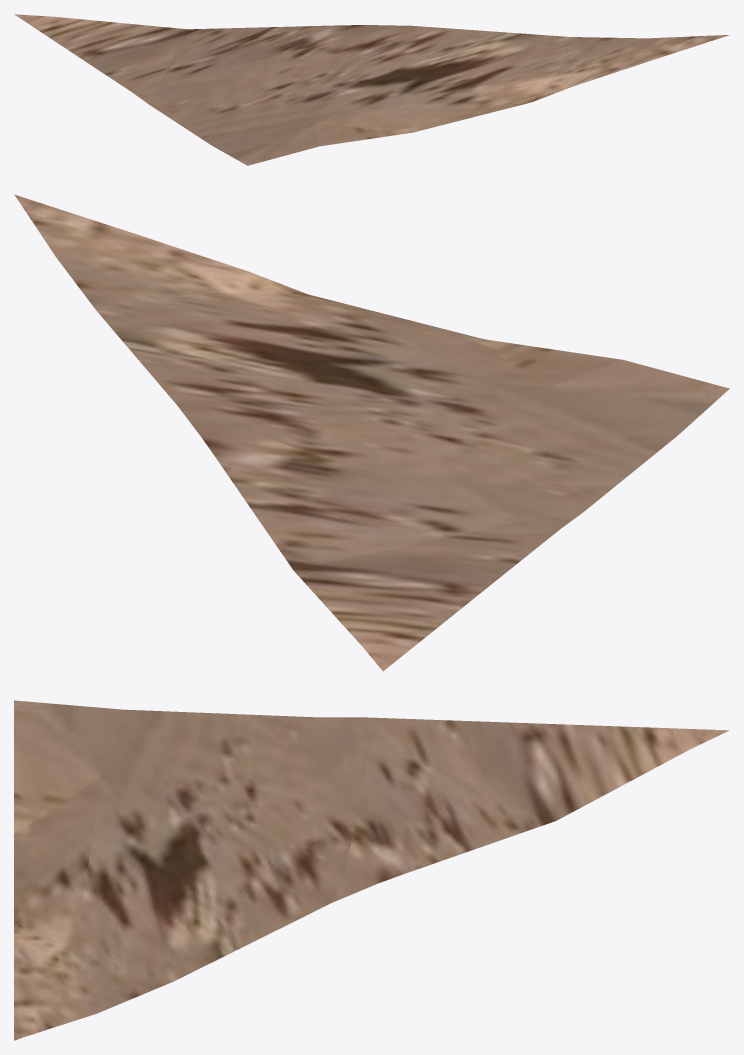
3 views of the same model, one above another, from view 1: azimuth 30°, elevation 25°; view 2: azimuth 150°, elevation 25°; view 3: azimuth 270°, elevation 25° (orthographic). The views are drawn at different scales.
Size of the model in its own units: 1.03 by 0.0709 by 0.8658.
1 material, 1 textured.
